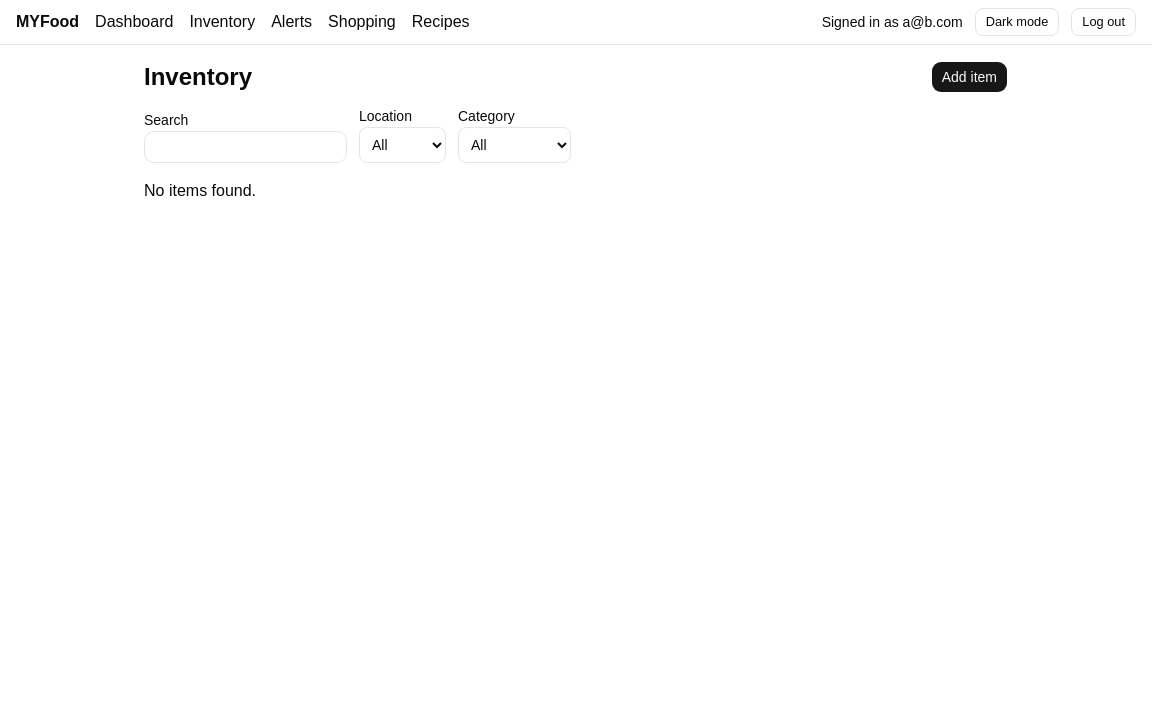
inventory › maps 400 details (future-only bestBefore) to the field
Click the button "Add item".
click(969, 77)  # box top-left (931, 61), bottom-right (1008, 93)
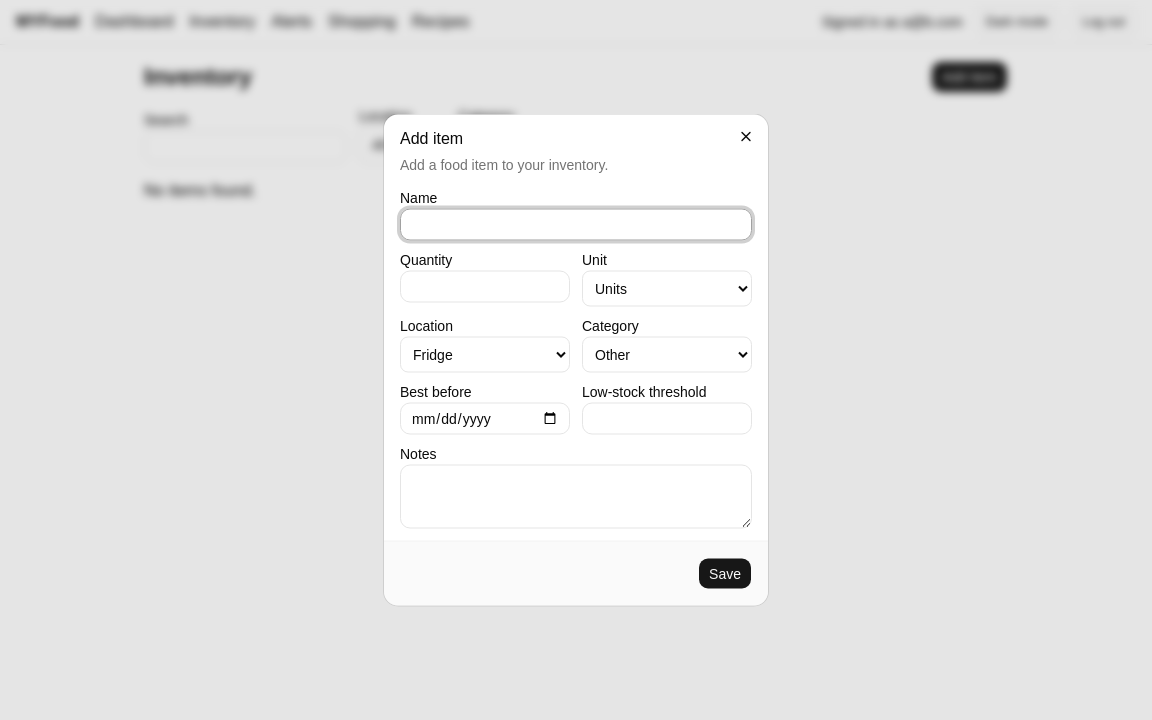
Type "Milk" into the field labelled "Name".
click(576, 224); type("Milk")  # box top-left (400, 208), bottom-right (752, 240)
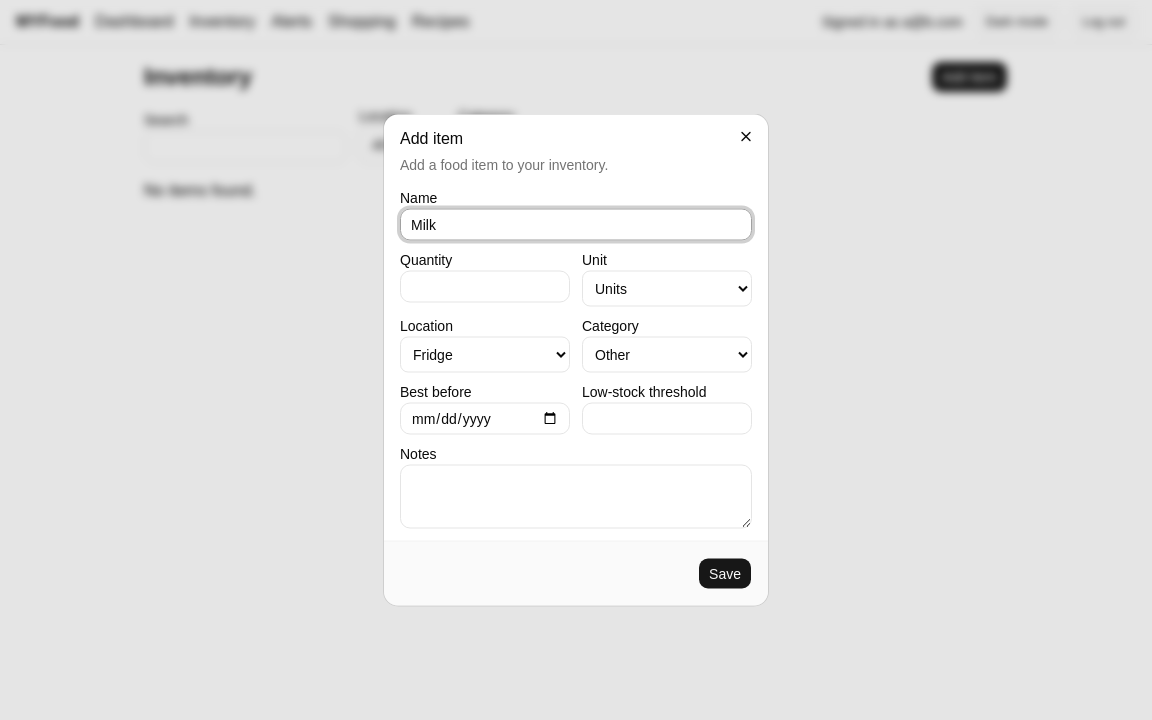
Type "1" into the number field labelled "Quantity".
click(485, 286); type("1")  # box top-left (400, 270), bottom-right (570, 302)
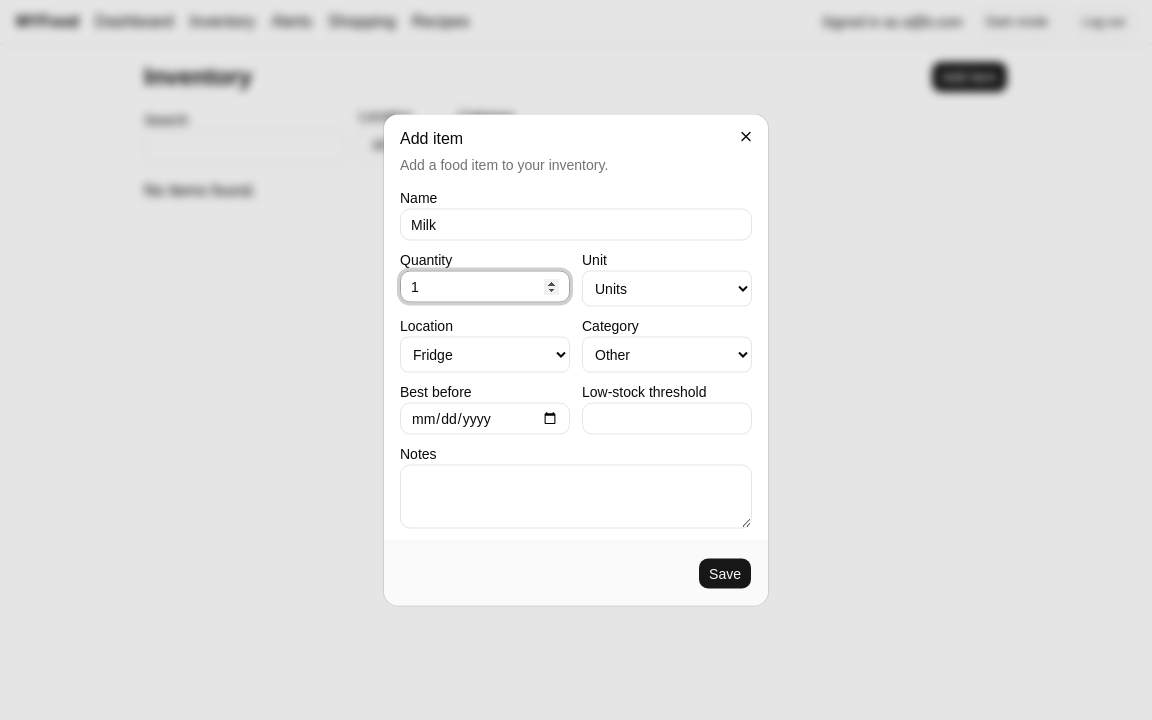
Type "2000-01-01" into the date field labelled "Best before".
click(485, 418); type("2000-01-01")  # box top-left (400, 402), bottom-right (570, 434)
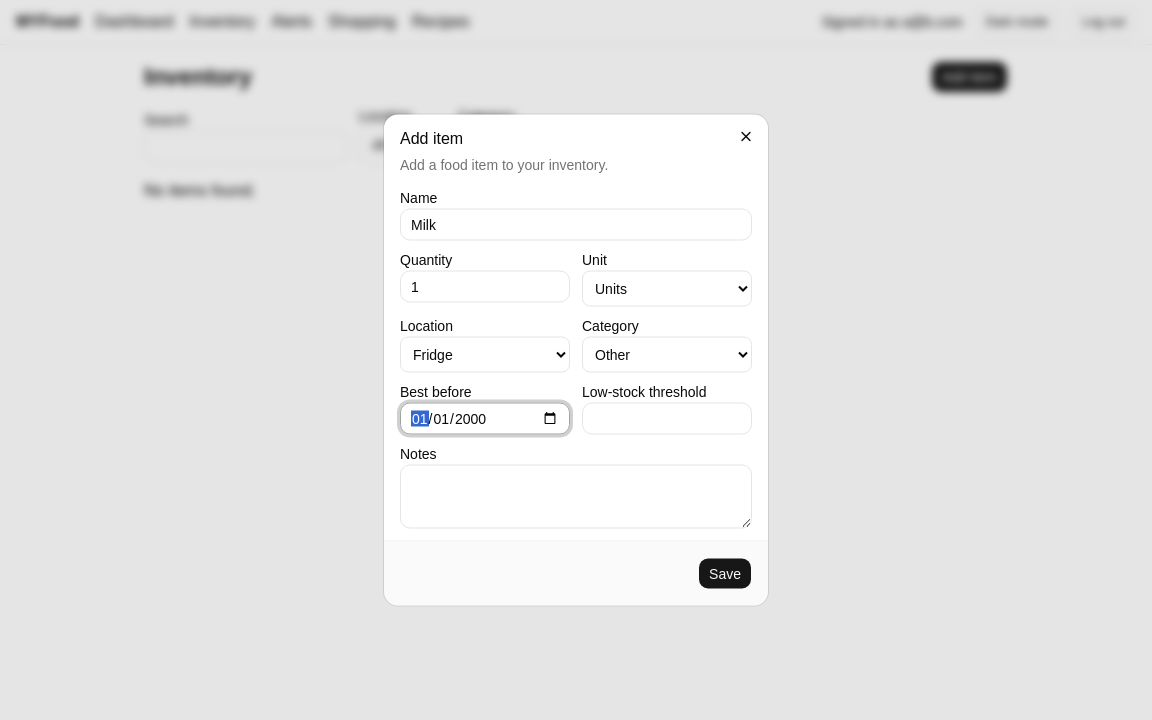
Click the button "Save".
click(725, 574)  # box top-left (698, 558), bottom-right (752, 590)
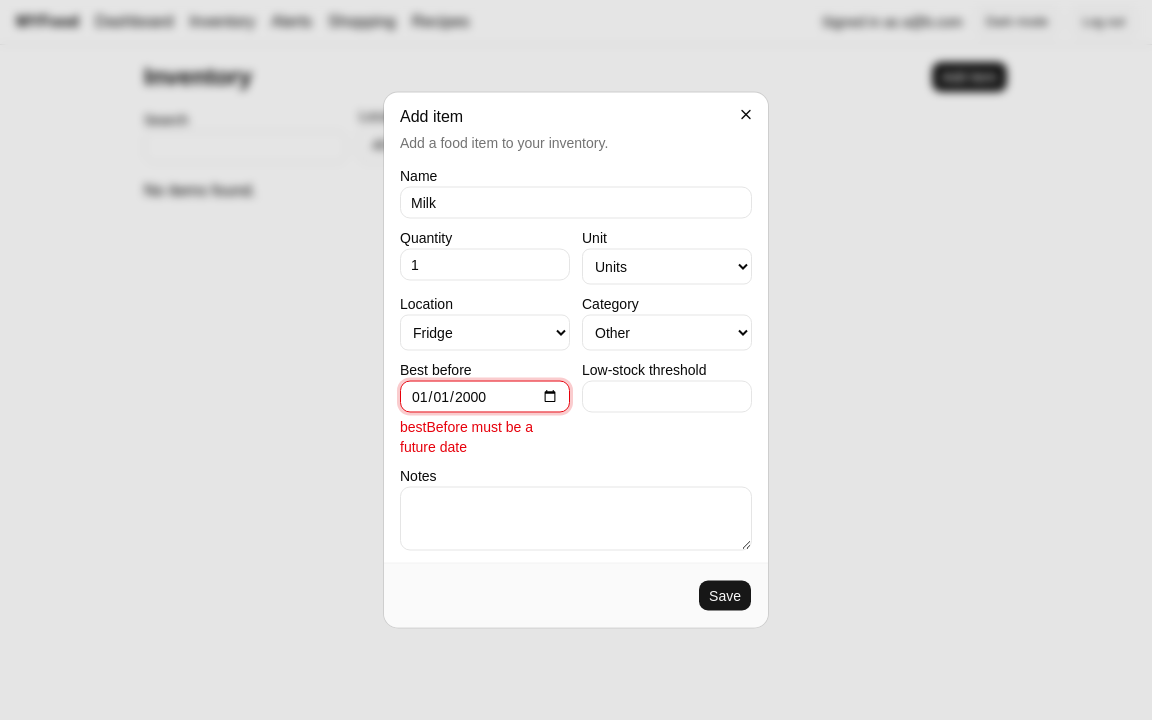
Result: the text "bestBefore must be a future date" is shown at top-left (400, 418), bottom-right (533, 454)
